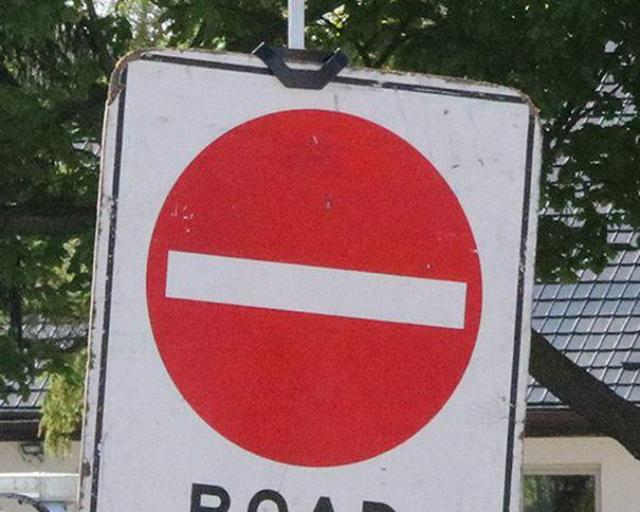B2: (148, 111, 482, 463)
